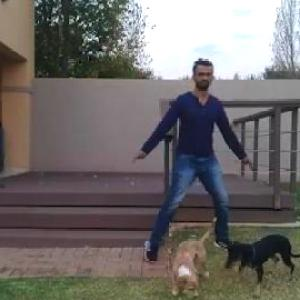land: (126, 72, 247, 269)
